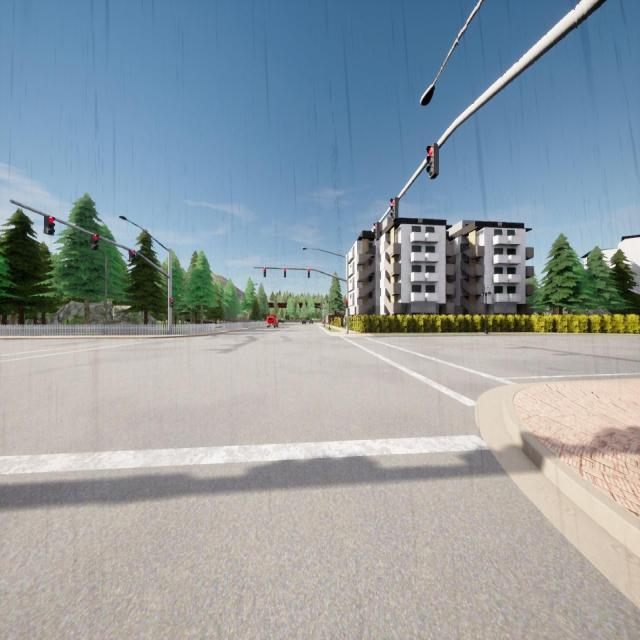Vehicle: (266, 314, 278, 328), (302, 320, 306, 325), (309, 320, 313, 324)
traffic_light: (426, 143, 439, 179), (44, 216, 55, 236), (390, 197, 398, 221), (373, 222, 380, 240), (92, 235, 98, 250), (129, 250, 135, 261), (170, 298, 173, 308), (284, 268, 286, 278), (308, 268, 310, 278), (264, 268, 266, 277), (346, 299, 348, 308)
